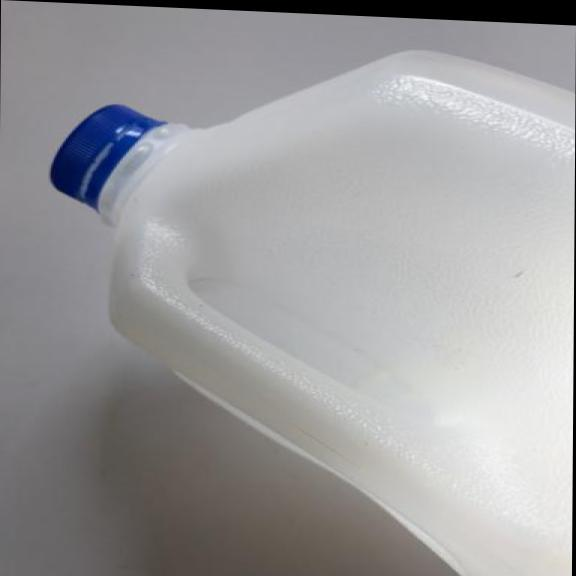Plastik: (35, 29, 576, 576)
